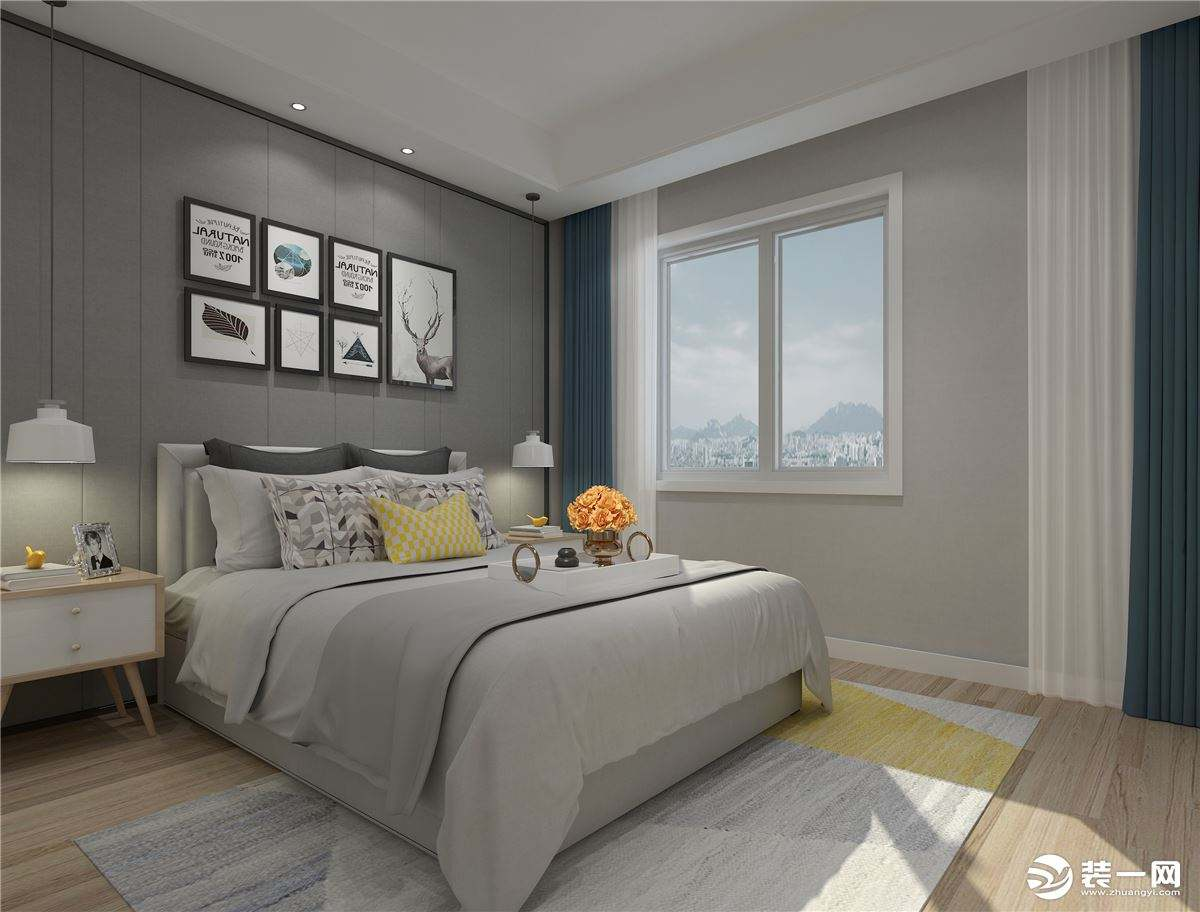床: (177, 552, 811, 849)
枕头: (198, 448, 499, 578)
灯: (10, 408, 102, 581), (511, 429, 560, 528), (392, 142, 420, 163), (282, 98, 311, 117)
